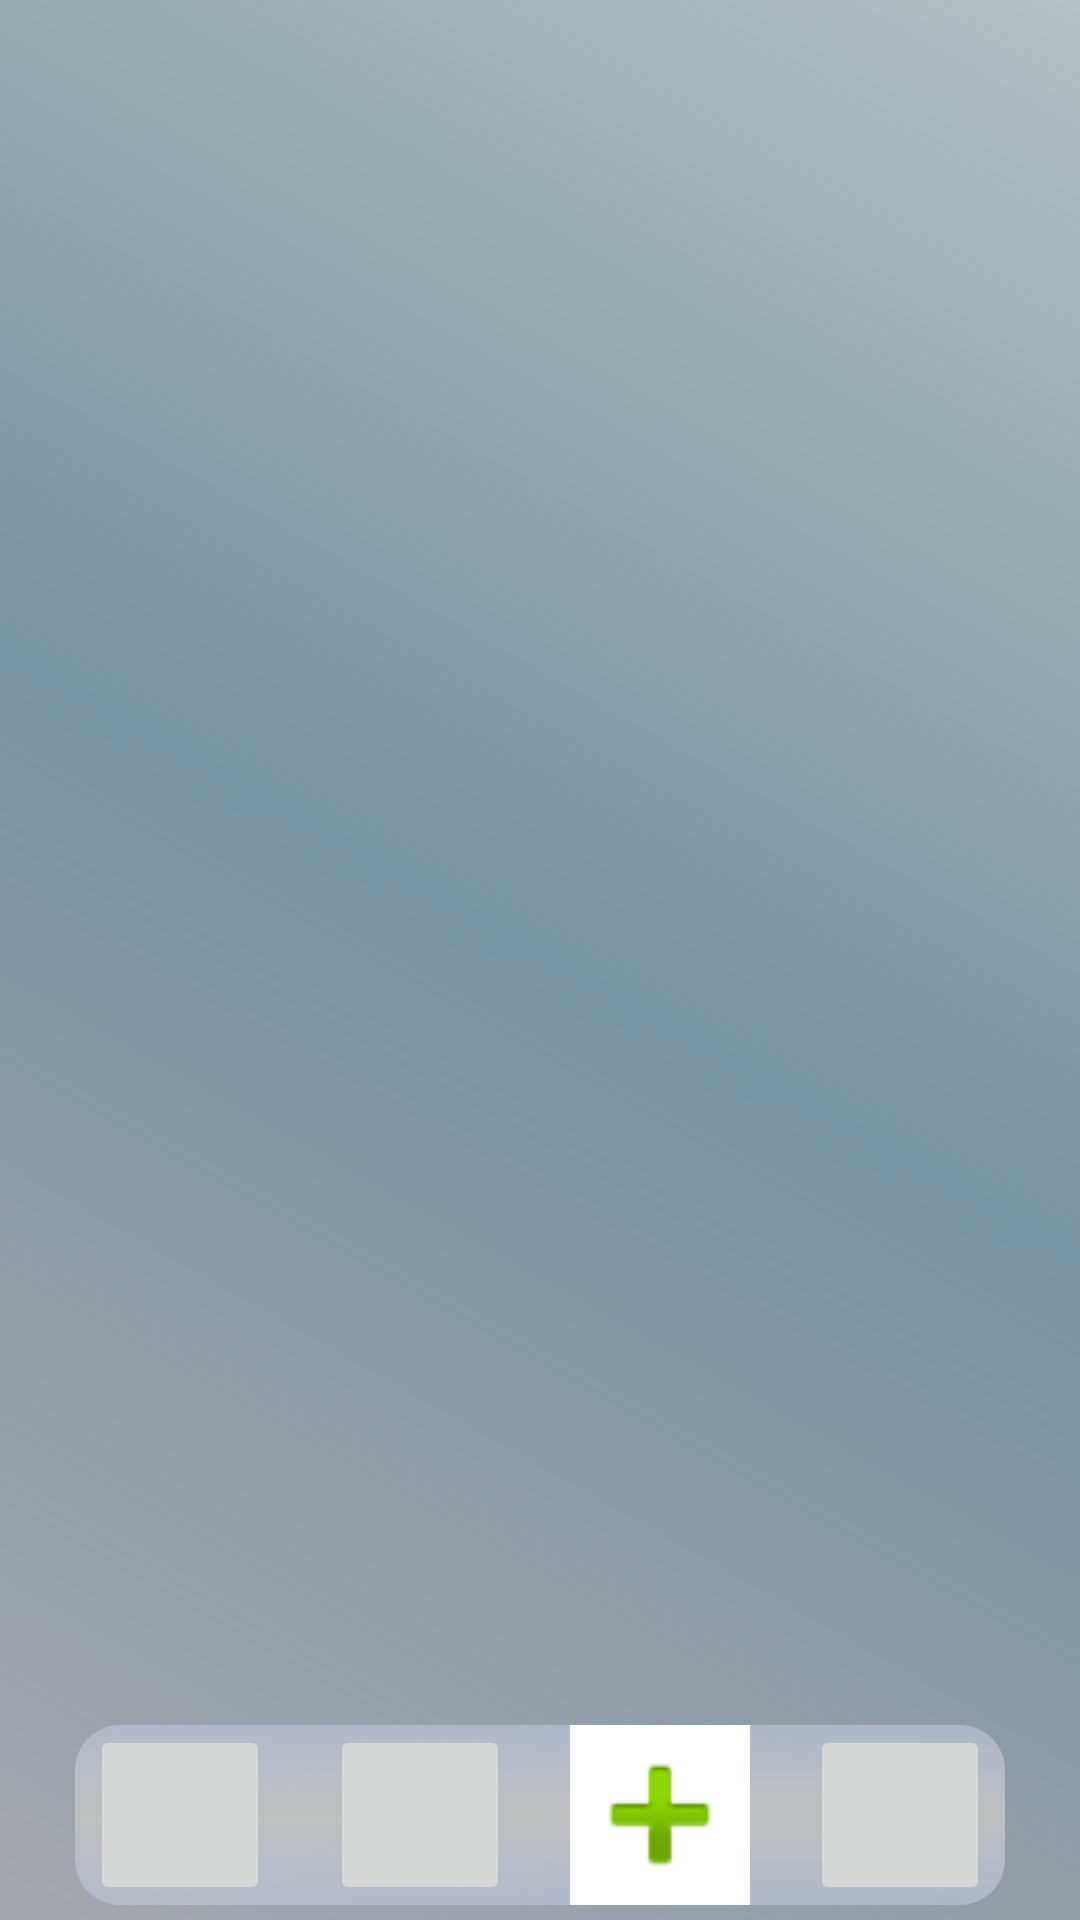

Point at icon controls on the screen. Image size 1080w x 1920h, points as (x,y).
add: (660,1815)
